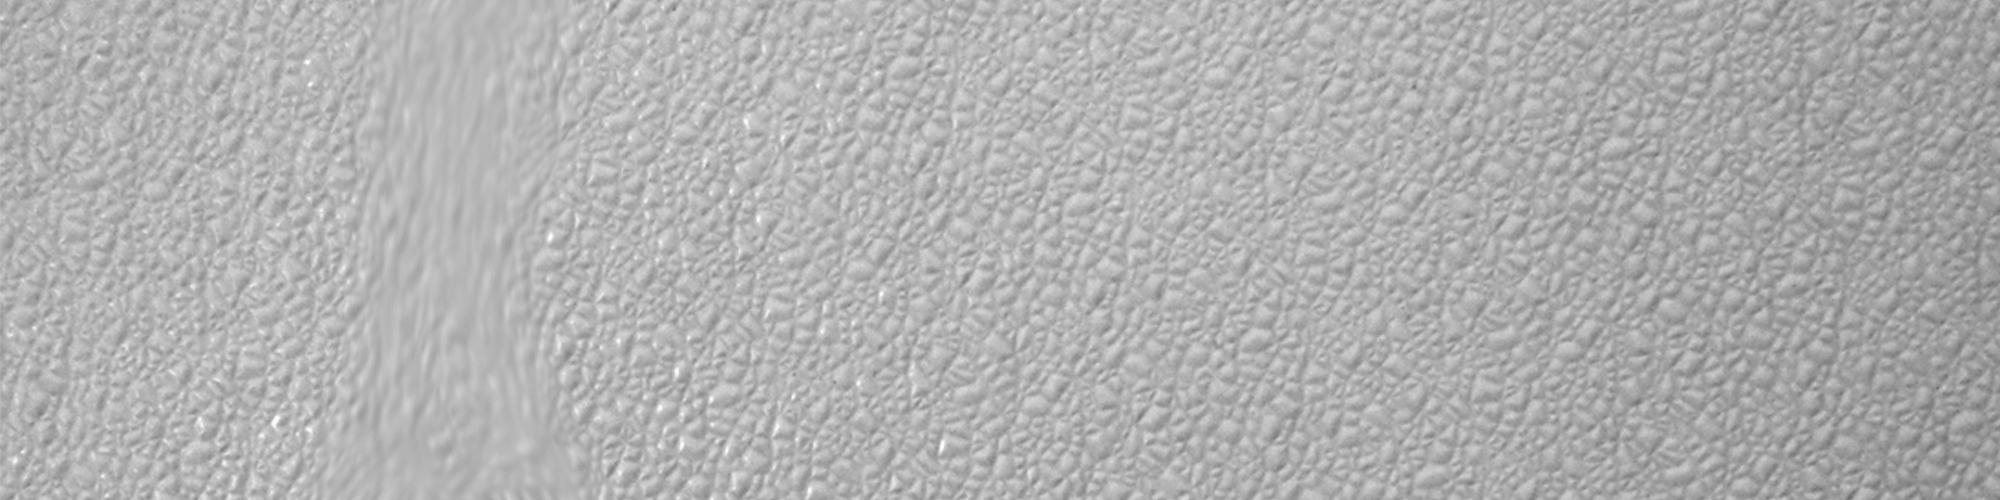Flow_Lines: (316, 3, 587, 500)
